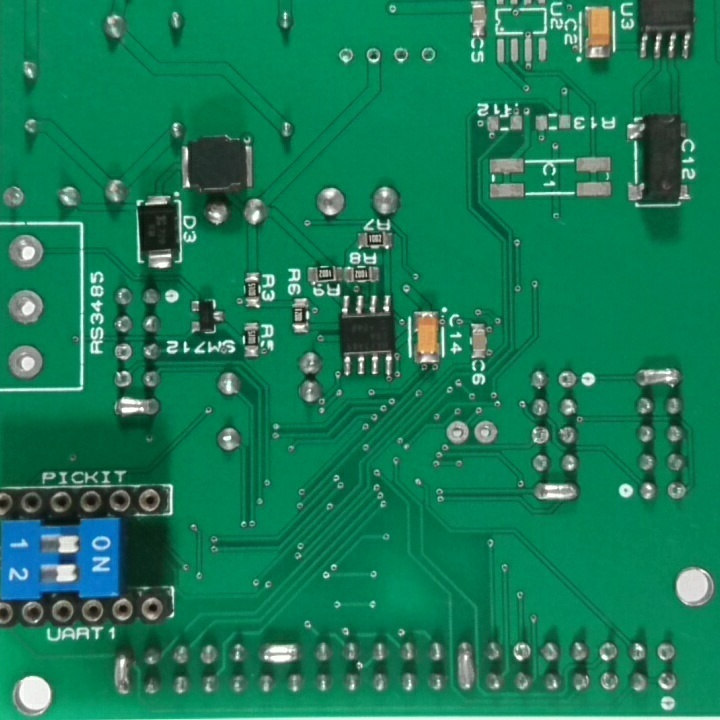F: (7, 286, 48, 328), (4, 342, 46, 383), (7, 233, 48, 271), (473, 416, 500, 446), (444, 418, 470, 444), (555, 366, 581, 392), (599, 667, 624, 694), (1, 183, 26, 208), (656, 669, 680, 695), (528, 423, 552, 449), (665, 478, 689, 504), (512, 639, 533, 666), (336, 44, 355, 68), (113, 341, 133, 363), (420, 44, 440, 66), (392, 43, 411, 66), (364, 45, 383, 67)
P: (452, 638, 480, 697), (110, 395, 166, 423), (632, 363, 684, 392), (532, 479, 582, 506), (110, 646, 135, 698), (259, 641, 302, 669)
